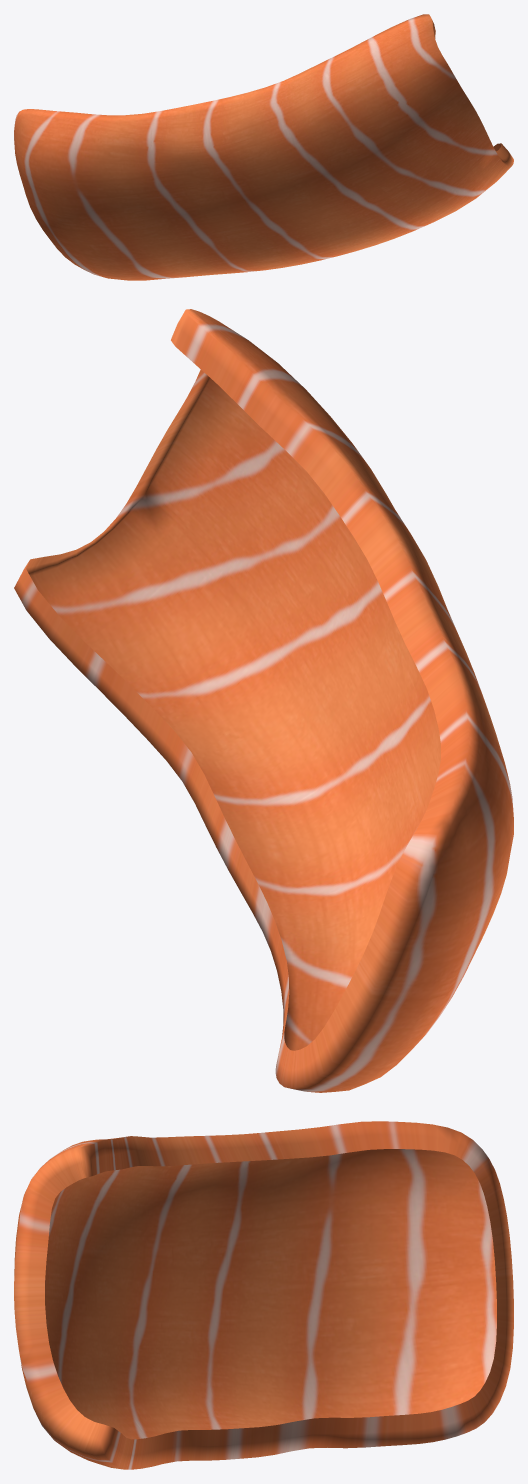
Rendered from salmon.obj.
3 renders of one model, top to bottom at view 1: azimuth 30°, elevation 25°; view 2: azimuth 150°, elevation 25°; view 3: azimuth 270°, elevation 25°, orthographic. The views are drawn at different scales.
Visible parts, largest first — view 1: dynamic; view 2: dynamic; view 3: dynamic.
Boxes of the visible parts, bbox=[...] form: dynamic: bbox=[14, 14, 513, 280]; dynamic: bbox=[14, 309, 513, 1092]; dynamic: bbox=[14, 1121, 513, 1469].
Bounding box in the file's own units: 2.55 × 1.92 × 2.05.
Materials: 1 (1 with a texture image).
